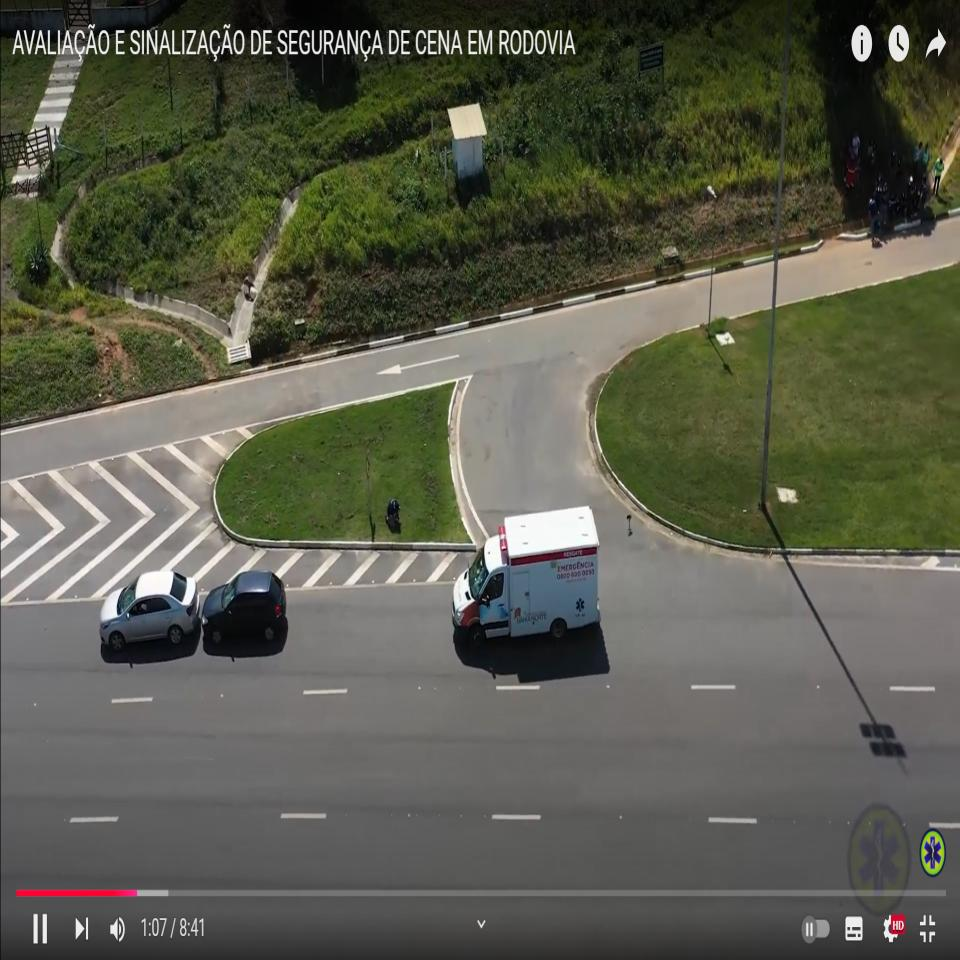bombeiro: (452, 503, 601, 653)
